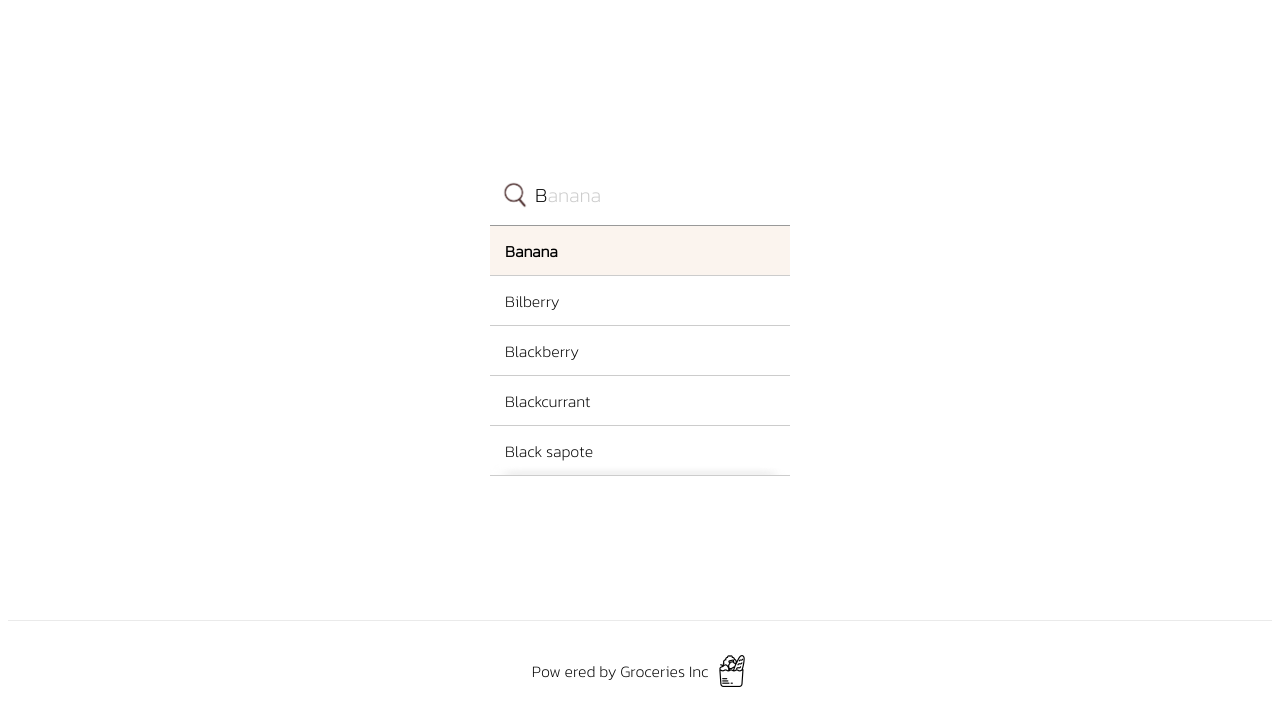
Test case: Nav Menus › 720p resolution › When you visit home › When you search › Should show pre input matched suggestion
The width and height of the screenshot is (1280, 720).
Type "e" into the field with test id "autocomplete-input". click: x=640, y=193
box: [490,160,790,226]
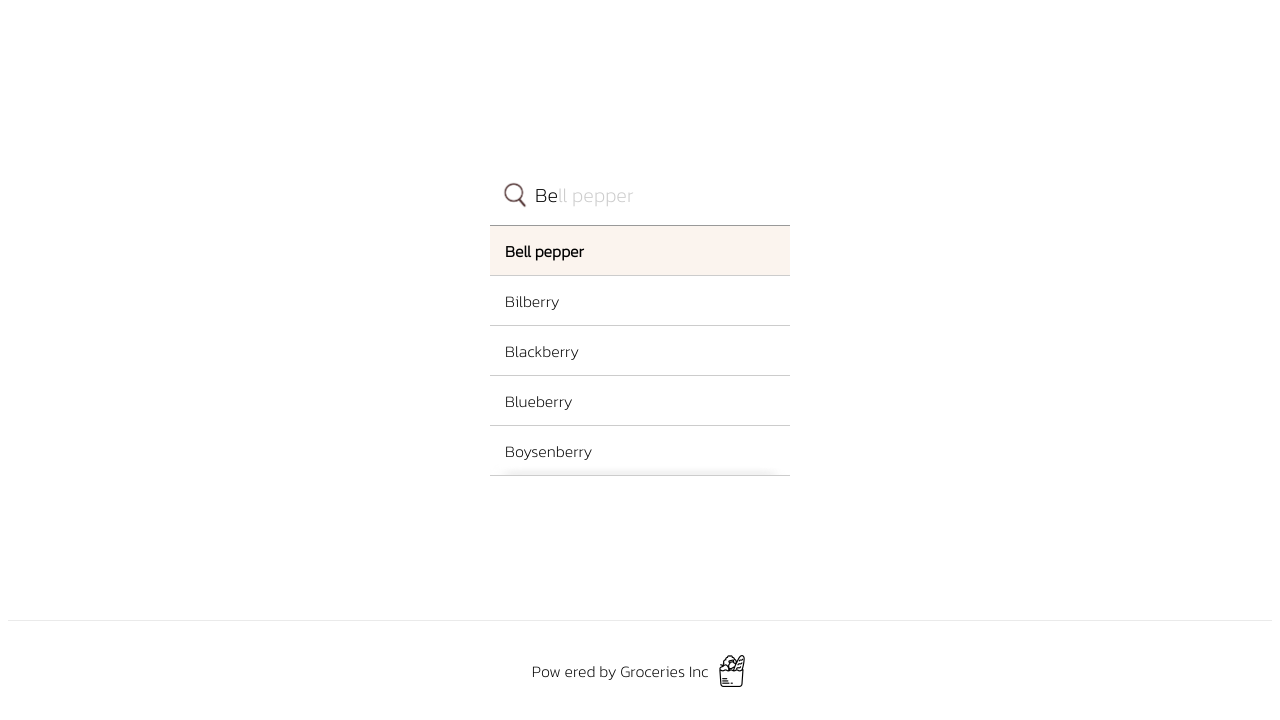
Check: the field with test id "autocomplete-pre-input" holds "Bell pepper", box [490,160,790,226]
